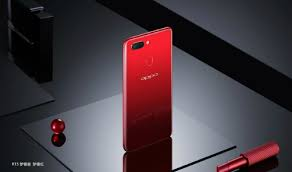oppo: (119, 24, 175, 159)
